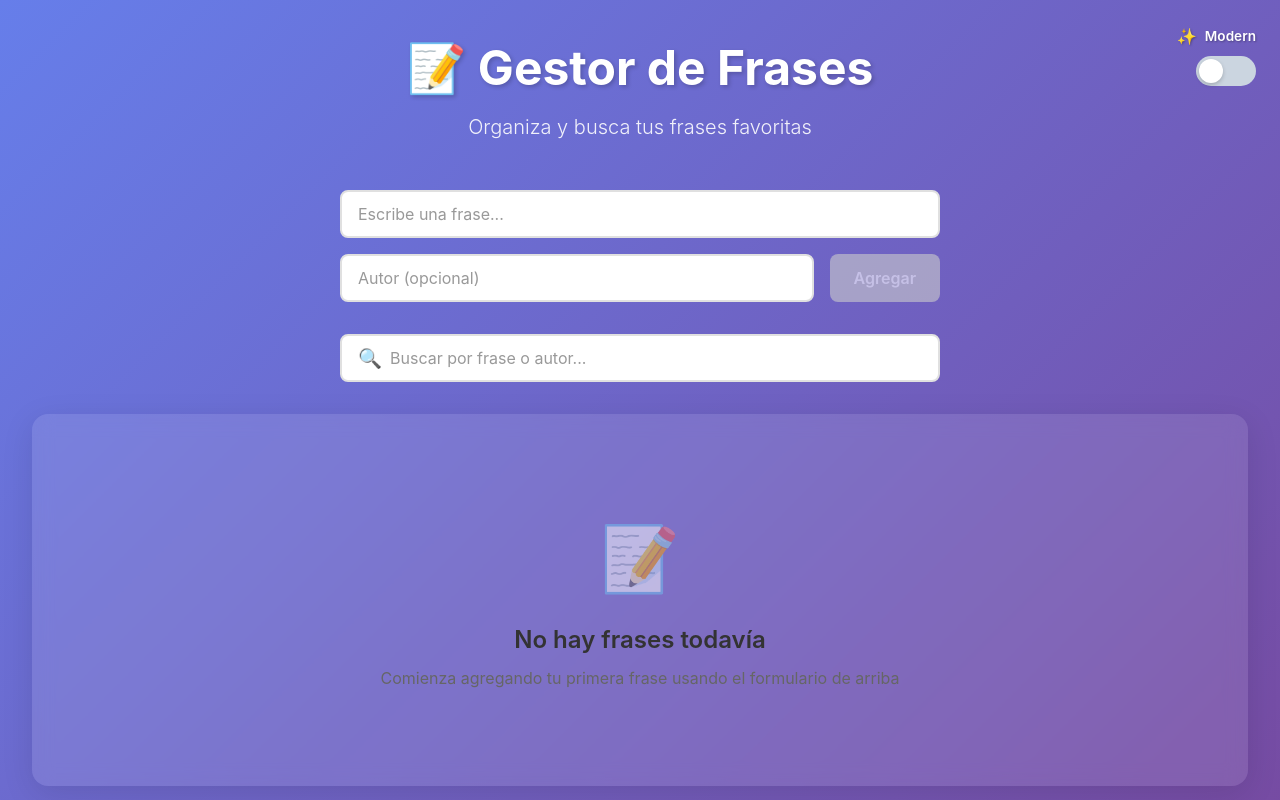
App - Integration Tests › should delete a phrase
The width and height of the screenshot is (1280, 800).
In the field with placeholder "Escribe una frase...": {"x": 640, "y": 214} [340, 190, 940, 238], type "Frase temporal"
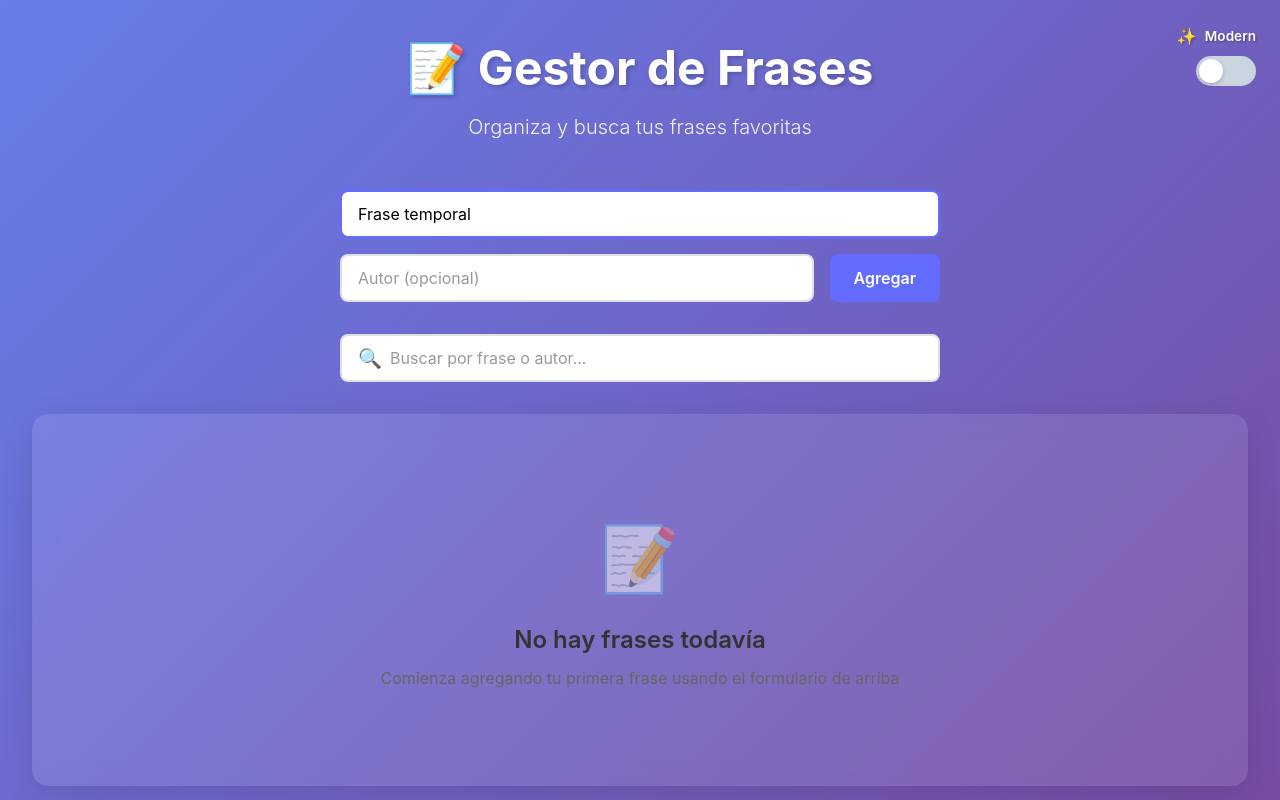
Click the button "Agregar": {"x": 885, "y": 278} [830, 254, 940, 302]
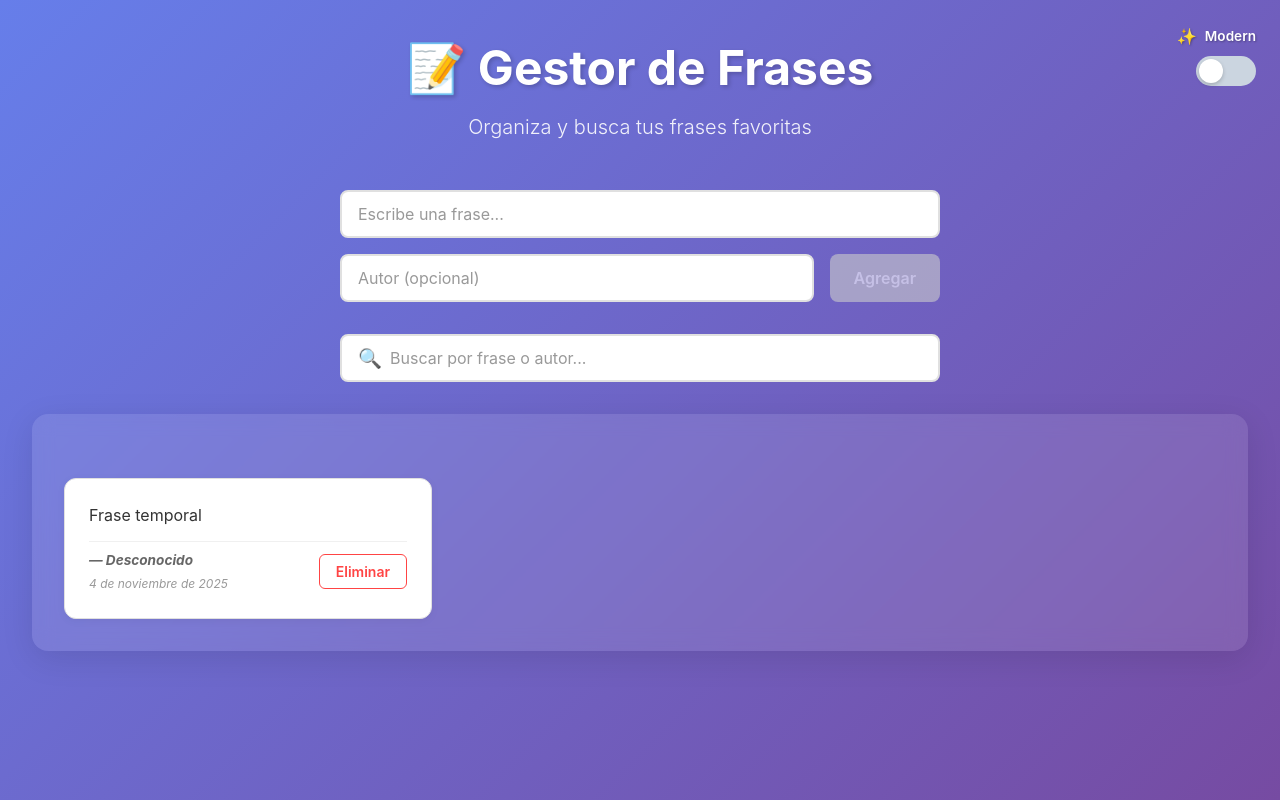
Now the text "Frase temporal" is shown, box [89, 505, 202, 525]
Eliminar la frase
Click the button with aria-label "eliminar frase: frase temporal": {"x": 363, "y": 572} [319, 554, 407, 589]
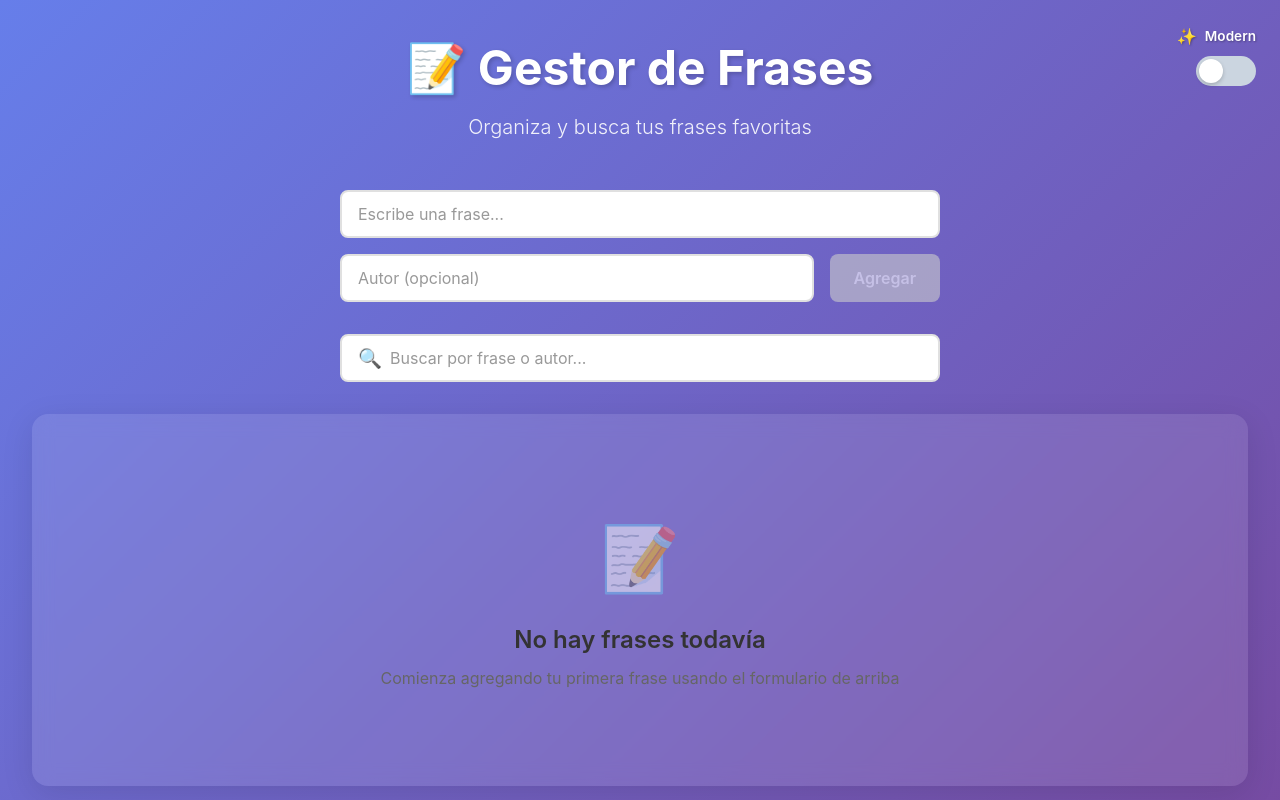
Now the text "Frase temporal" is gone
Now the heading "No hay frases todavía" is shown, box [514, 622, 766, 658]
